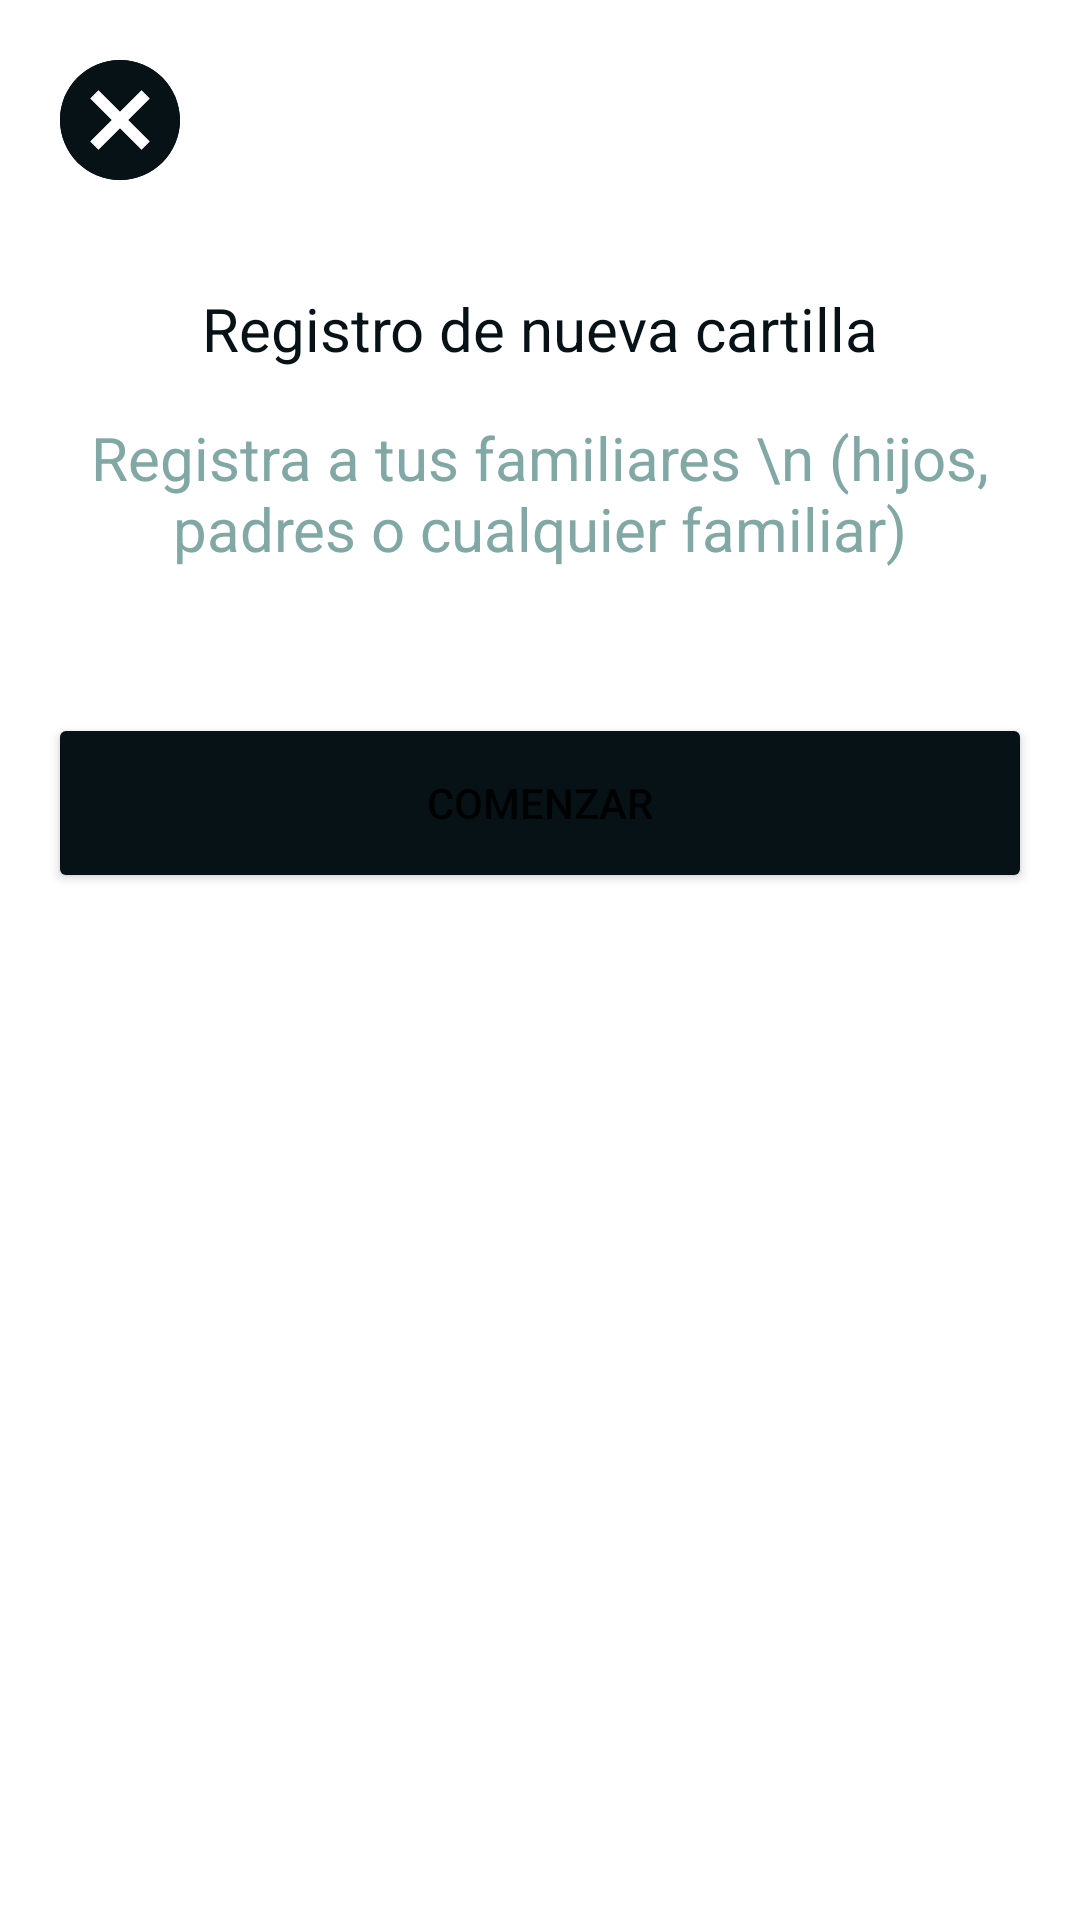

Locate icon controls on the screen. Image size 1080w x 1920h, boxes as (x1, y1, x2, y2).
cancel: (60, 60, 180, 180)
